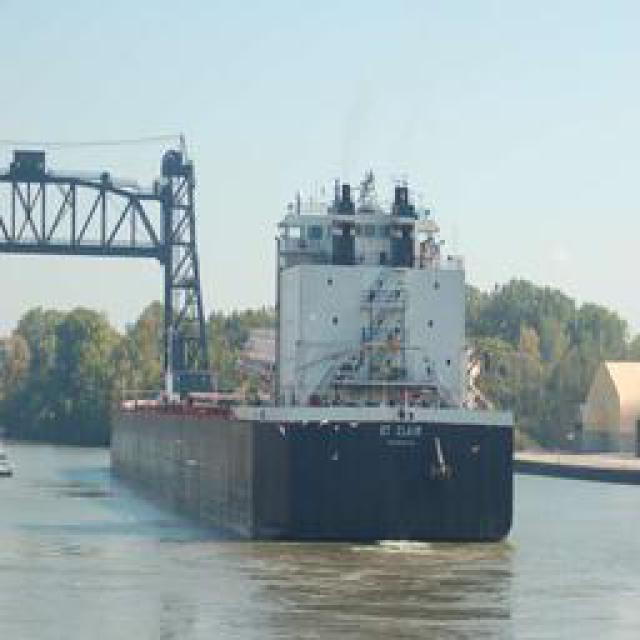Ship: (106, 165, 528, 556)
